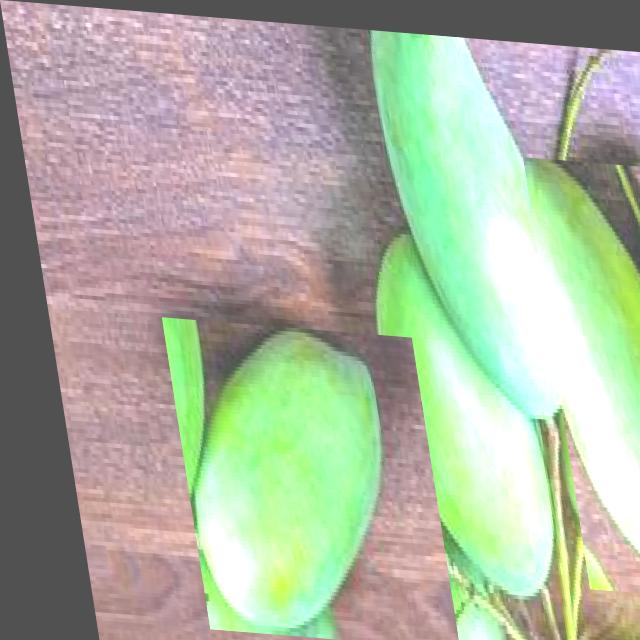raw-image: (152, 315, 441, 640), (360, 23, 584, 414), (359, 243, 561, 590), (519, 148, 640, 589), (303, 599, 512, 640)
